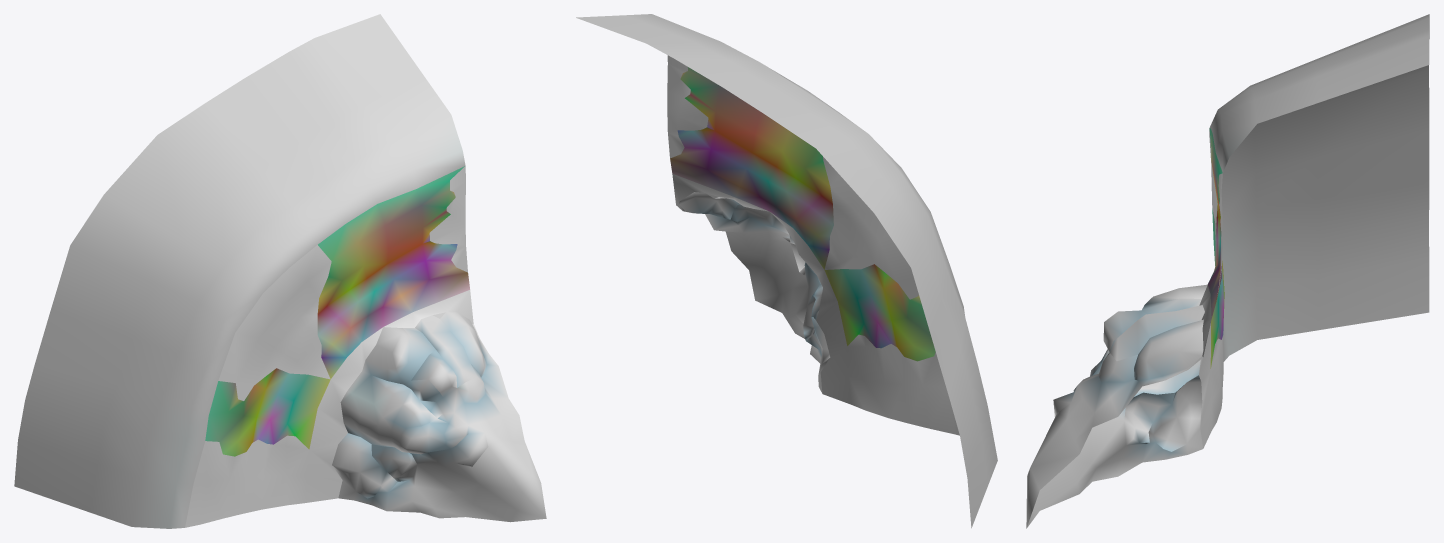
Rendered from Snow_CurveOutC_lod1.glb.
The picture shows the model from 3 angles, left to right: view 1: azimuth 30°, elevation 25°; view 2: azimuth 150°, elevation 25°; view 3: azimuth 270°, elevation 25°; orthographic projection. The views are drawn at different scales.
Parts seen in each view (by area): view 1: MeshNode_1, MeshNode_2, MeshNode_0; view 2: MeshNode_1, MeshNode_0, MeshNode_2; view 3: MeshNode_1, MeshNode_2, MeshNode_0.
Part boxes in pixels (x1,y1,x2,y2): MeshNode_1: (14, 14, 546, 528); MeshNode_2: (185, 166, 473, 527); MeshNode_0: (205, 166, 469, 456); MeshNode_1: (576, 14, 997, 528); MeshNode_0: (670, 67, 935, 361); MeshNode_2: (667, 55, 959, 435); MeshNode_1: (1026, 14, 1429, 528); MeshNode_2: (1199, 128, 1223, 448); MeshNode_0: (1208, 128, 1224, 368).
Size of the model in its own units: 105 by 105 by 82.72.
